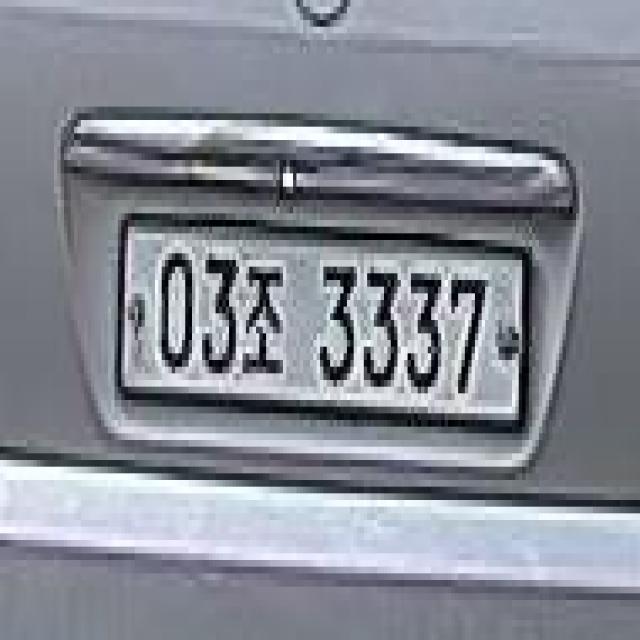illegal_plate: (108, 206, 535, 450)
